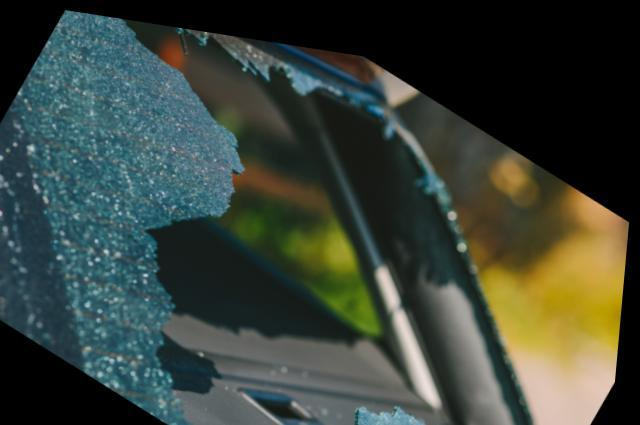glass shatter: (0, 8, 547, 425)
